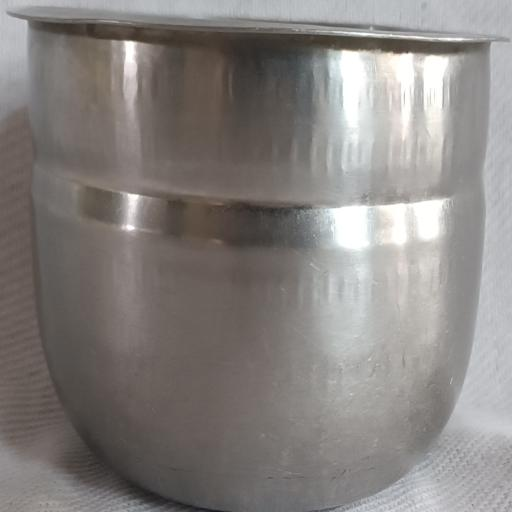vessel: (9, 7, 501, 512)
